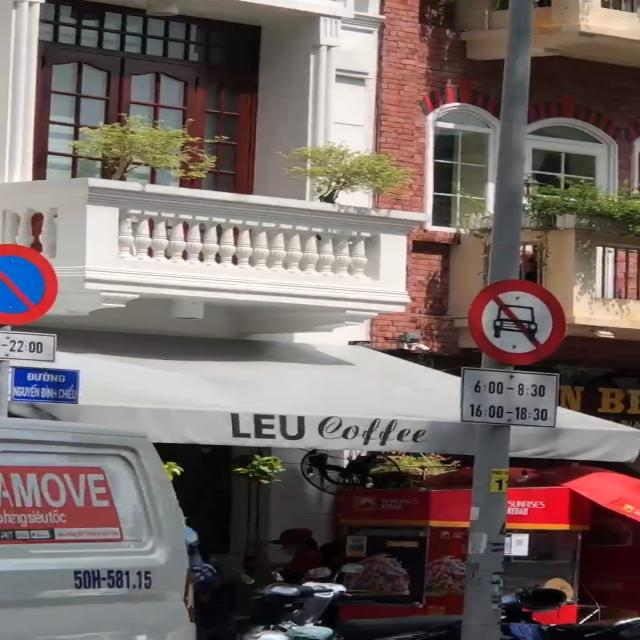Bien bao cam xe oto: (467, 274, 575, 367)
